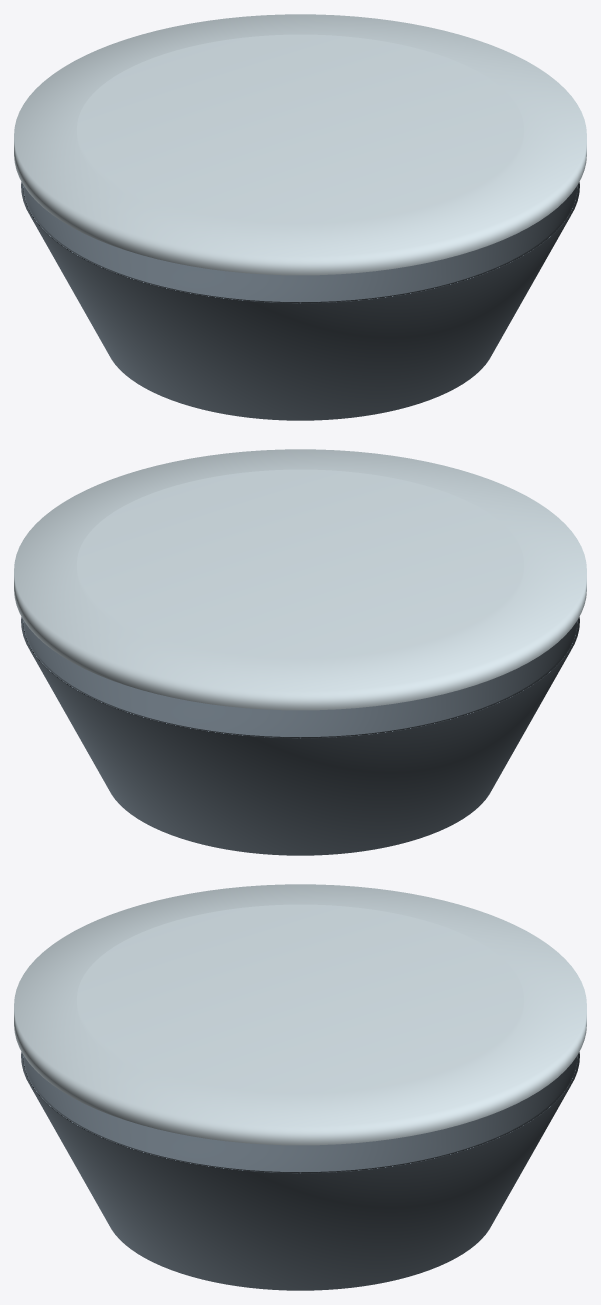
3 renders of one model, top to bottom at view 1: azimuth 30°, elevation 25°; view 2: azimuth 150°, elevation 25°; view 3: azimuth 270°, elevation 25°, orthographic.
Visible parts, largest first — view 1: demo_lid, demo_bowl; view 2: demo_lid, demo_bowl; view 3: demo_lid, demo_bowl.
Part boxes in pixels (x1,y1,x2,y2): demo_lid: [14, 14, 586, 275]; demo_bowl: [21, 182, 579, 420]; demo_lid: [14, 449, 586, 710]; demo_bowl: [21, 617, 579, 855]; demo_lid: [14, 884, 586, 1145]; demo_bowl: [21, 1052, 579, 1290].
Bounding box in the file's own units: 0.164 × 0.066 × 0.164.
